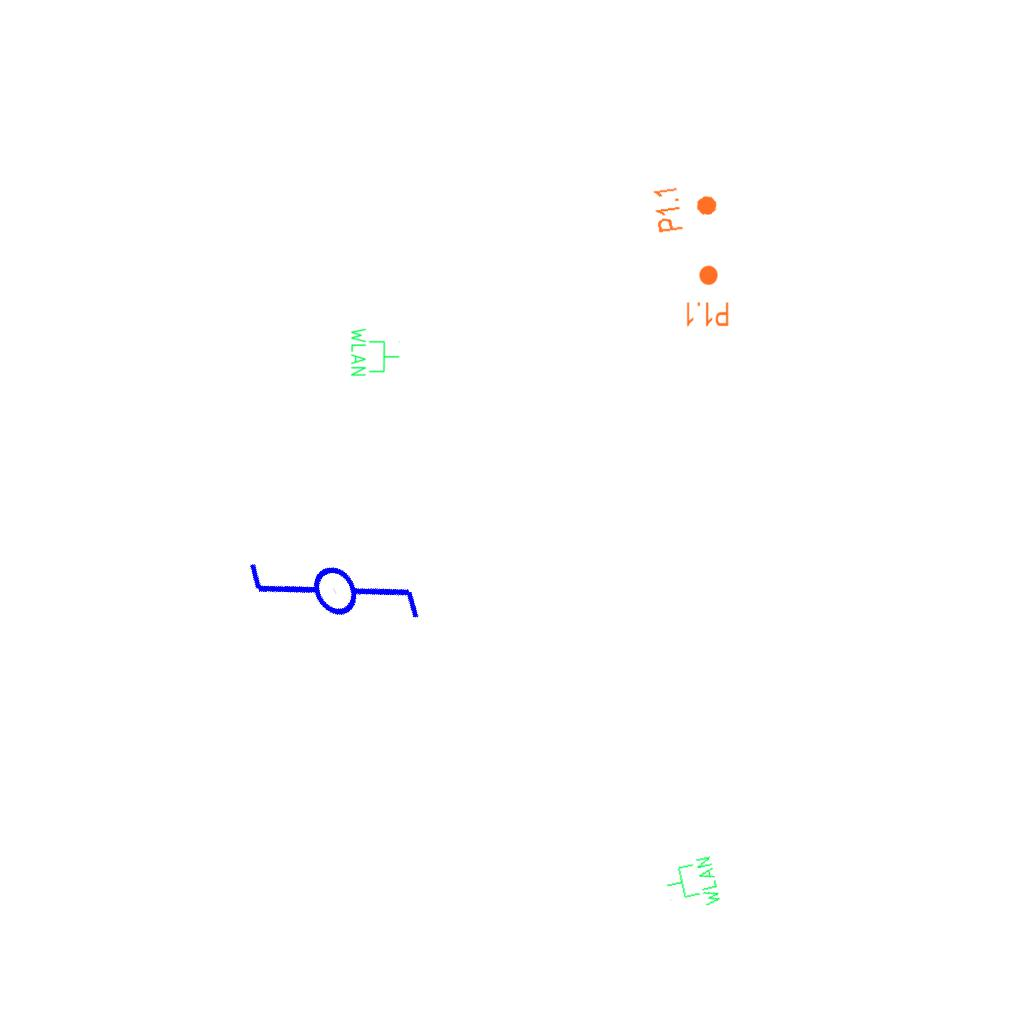Downlight_LED_Einbauleuchten_Flur: (651, 179, 721, 235), (684, 264, 730, 328)
WLAN: (660, 853, 724, 917), (349, 326, 401, 378)
Wechselschalter: (235, 494, 440, 704)
